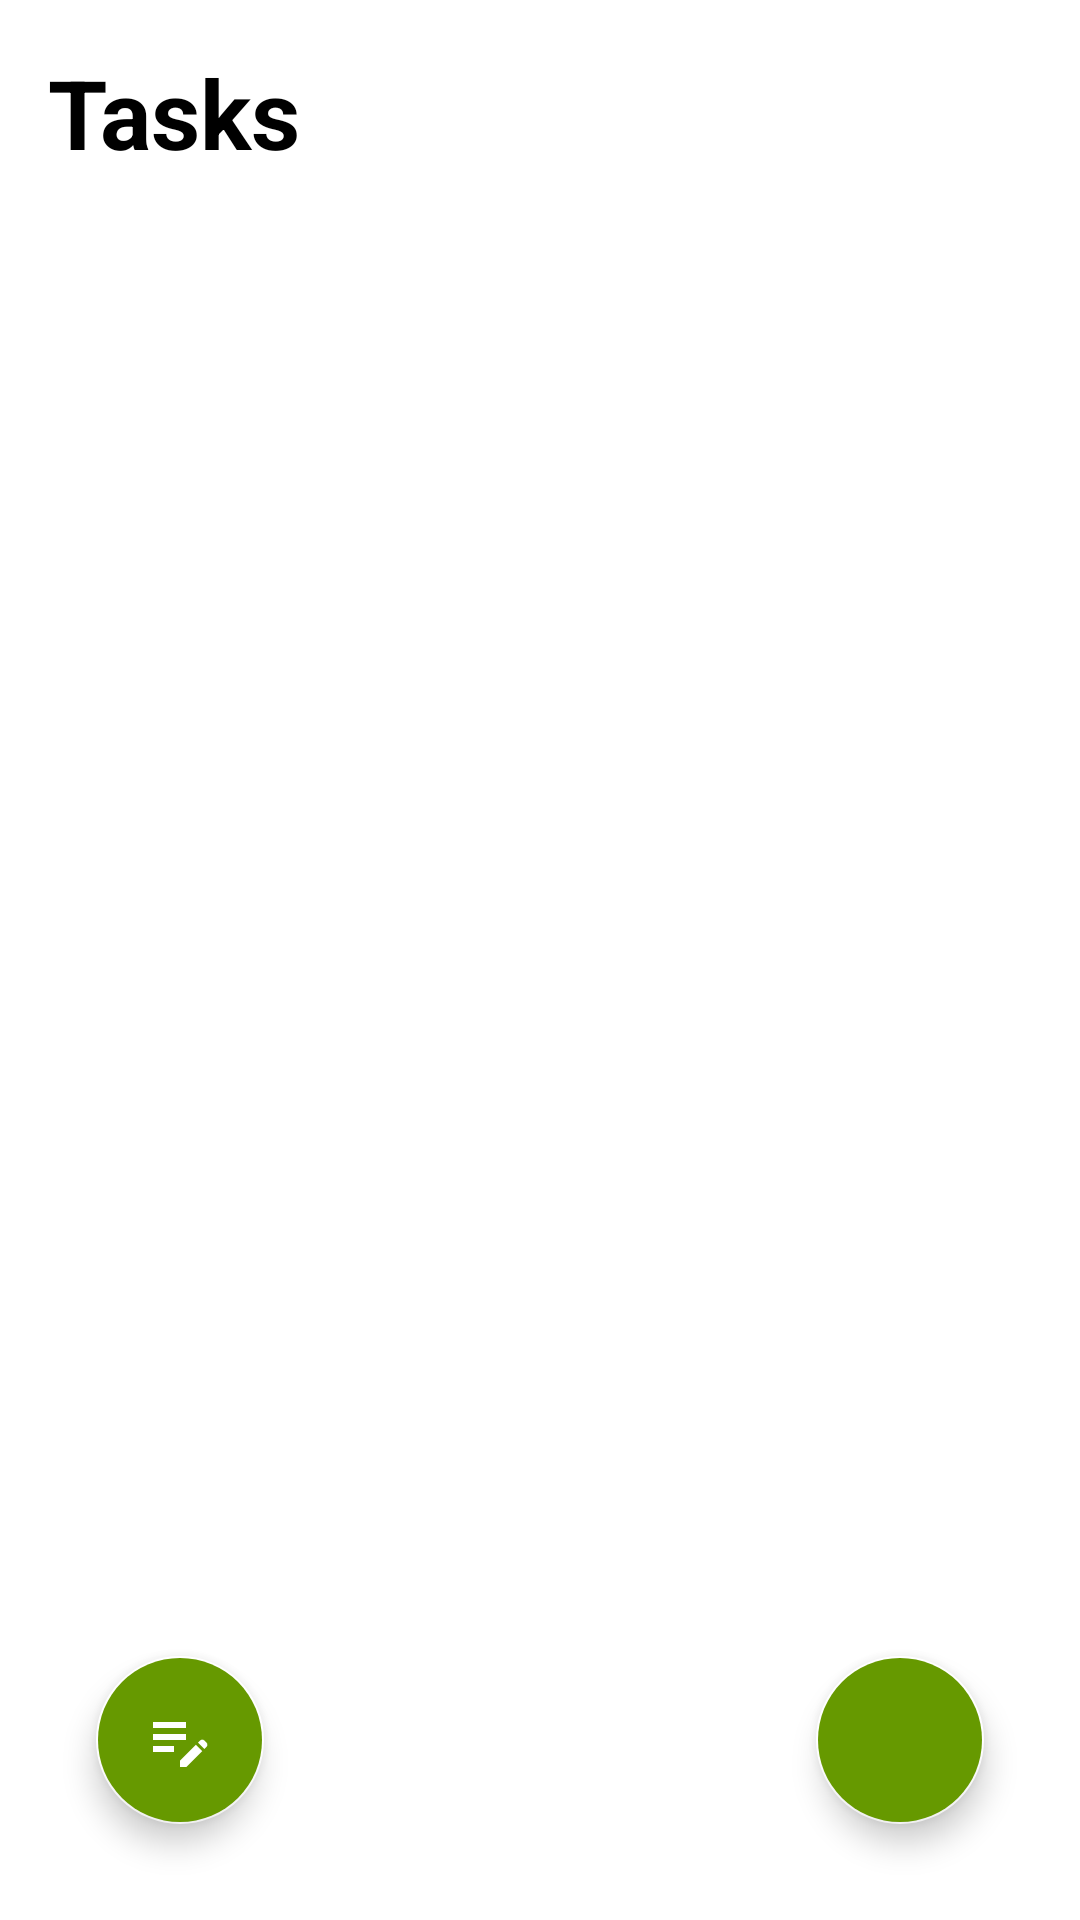

Where to tap for icons on this 1080px x 1920px app screen, as [x,y]:
edit note: [180,1740]
